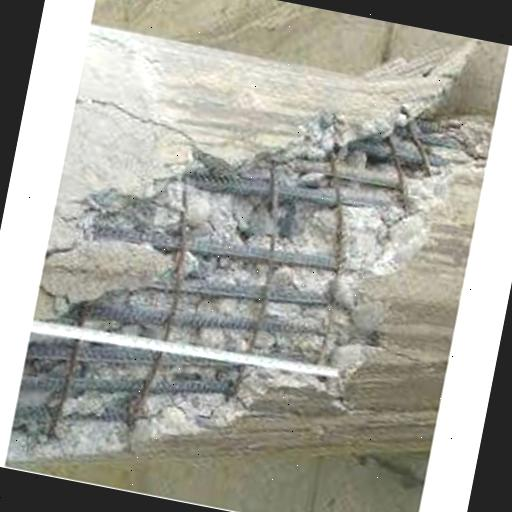spalling: (32, 20, 470, 480)
